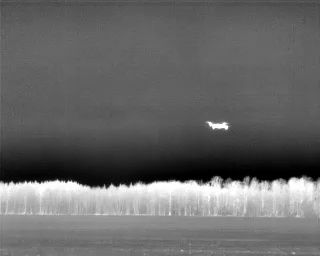DRONE: (203, 116, 234, 136)
